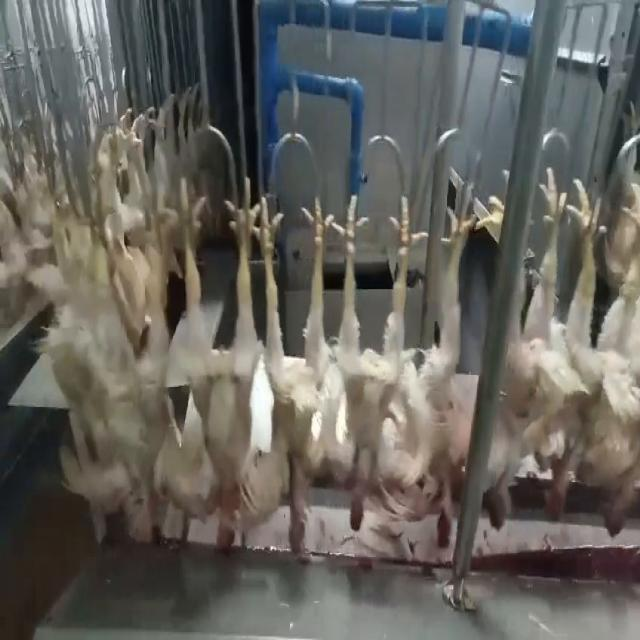chicken: (150, 166, 261, 548), (326, 176, 428, 539), (244, 174, 333, 553), (408, 186, 494, 549), (511, 169, 594, 528), (81, 178, 159, 525), (586, 197, 638, 540)
